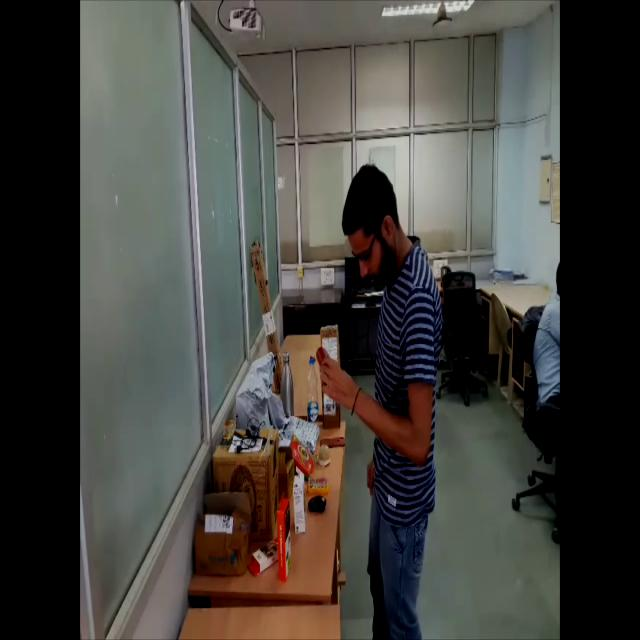normal: (311, 159, 445, 640)
